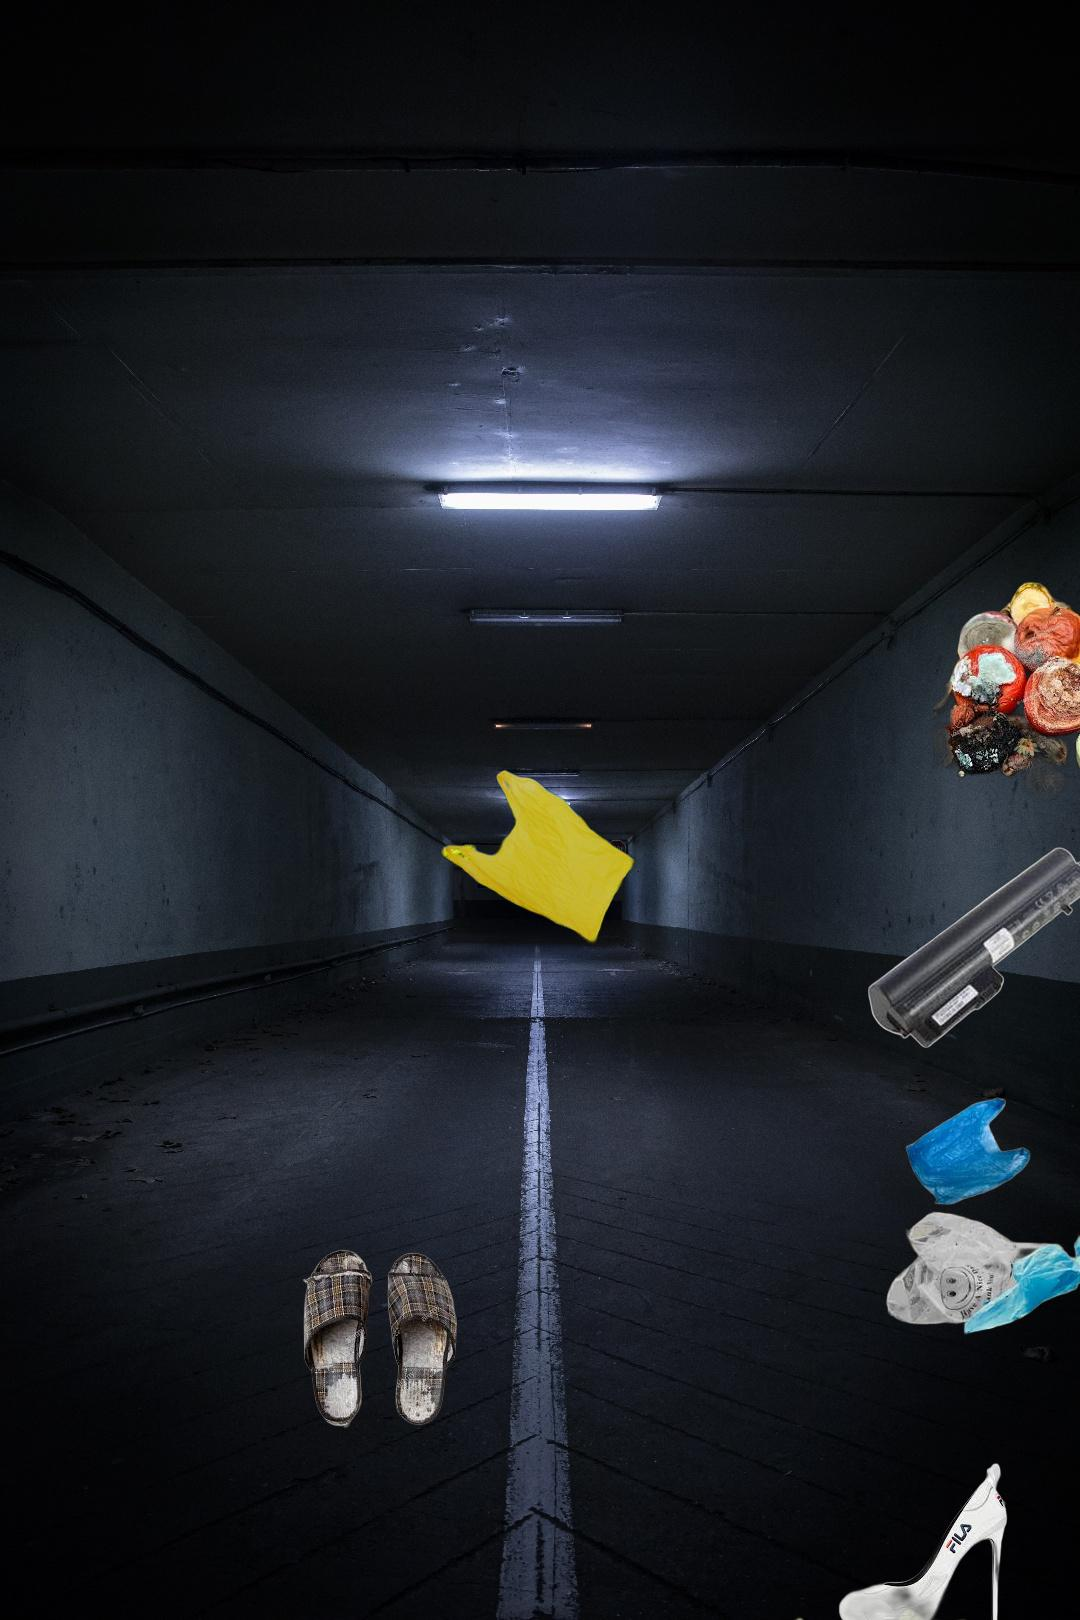battery: (865, 844, 1080, 1060), (1076, 512, 1080, 706)
biological: (933, 579, 1080, 823)
clothes: (665, 1597, 1066, 1620)
plastic-bag: (884, 1094, 1080, 1338), (436, 767, 646, 950)
shoes: (814, 1460, 1010, 1620), (300, 1248, 460, 1431)
